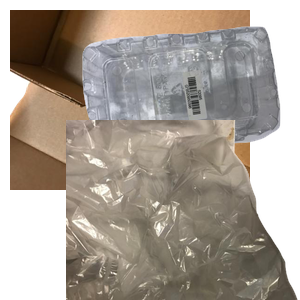cardboard: (10, 10, 250, 190)
glass: (68, 120, 255, 300)
plastic: (80, 24, 300, 172)
trash: (66, 120, 300, 300)
